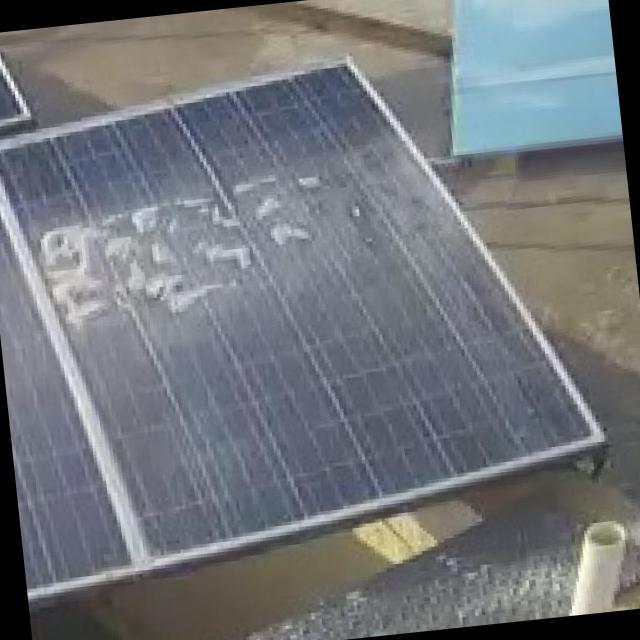faulty: (0, 63, 576, 556)
